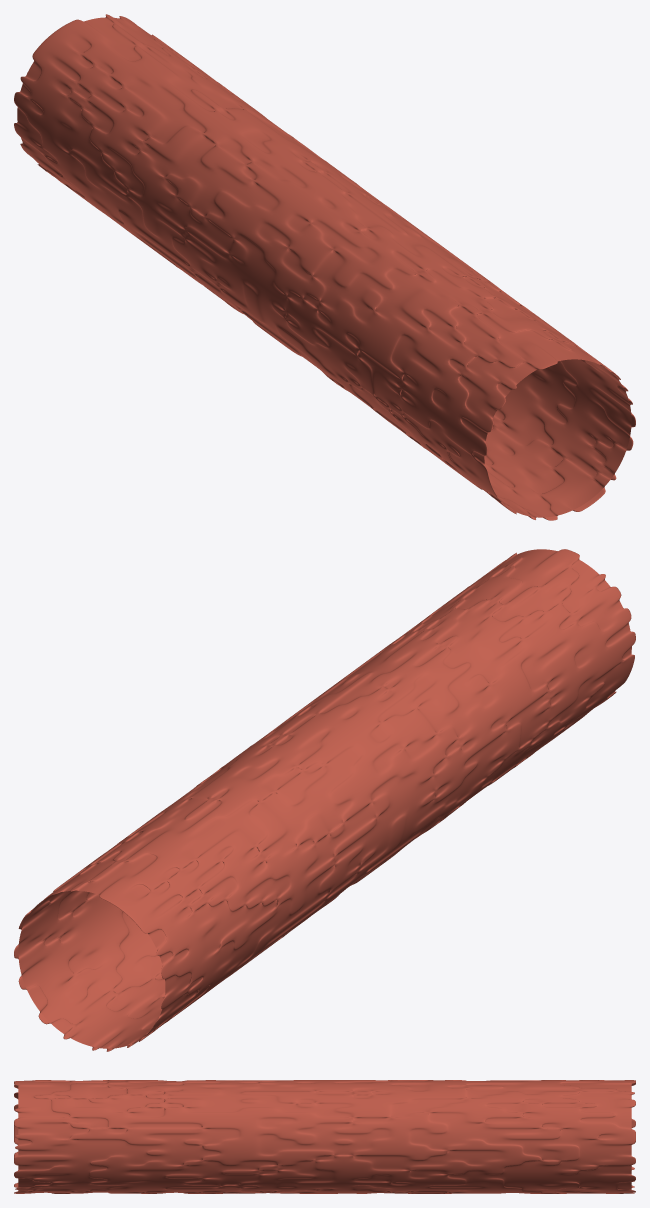
The model's file is Esopha.glb.
The picture shows the model from 3 angles, top to bottom: view 1: azimuth 30°, elevation 25°; view 2: azimuth 150°, elevation 25°; view 3: azimuth 270°, elevation 25°; orthographic projection. The views are drawn at different scales.
Parts seen in each view (by area): view 1: Cylinder; view 2: Cylinder; view 3: Cylinder.
Boxes of the visible parts, x1,y1,x2,y2 form: Cylinder: (14,14,635,520); Cylinder: (14,549,635,1051); Cylinder: (14,1080,635,1193).
Size of the model in its own units: 2.04 by 2.04 by 11.13.
